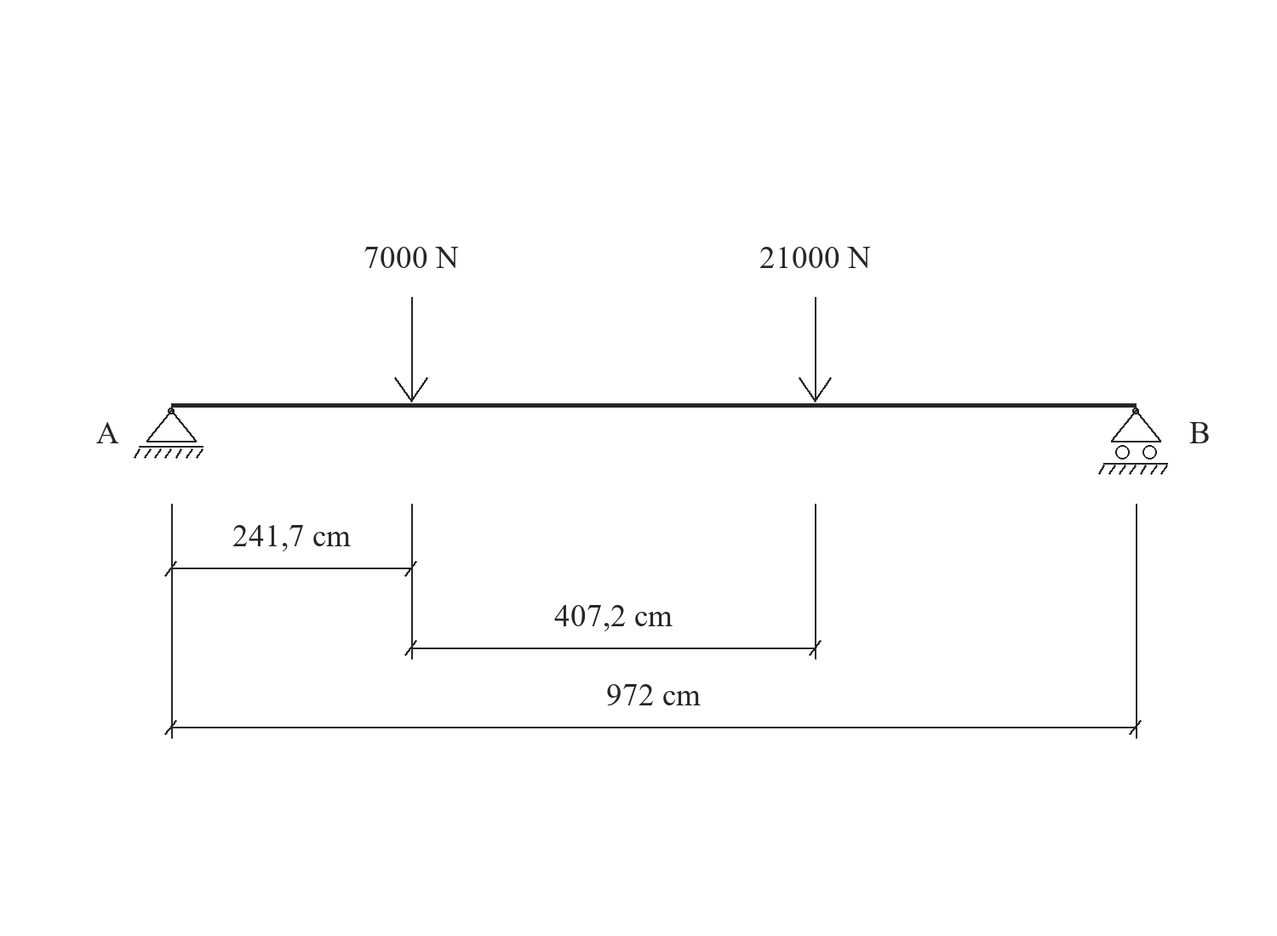pin_support: (134, 408, 203, 459)
point_load: (394, 297, 428, 402), (799, 297, 832, 402)
roller_support: (1098, 408, 1168, 475)
